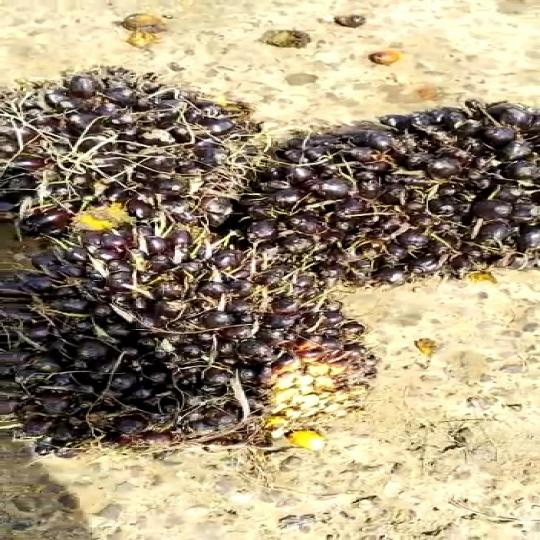mentah: (0, 244, 396, 475), (0, 53, 247, 263), (265, 91, 540, 276)
